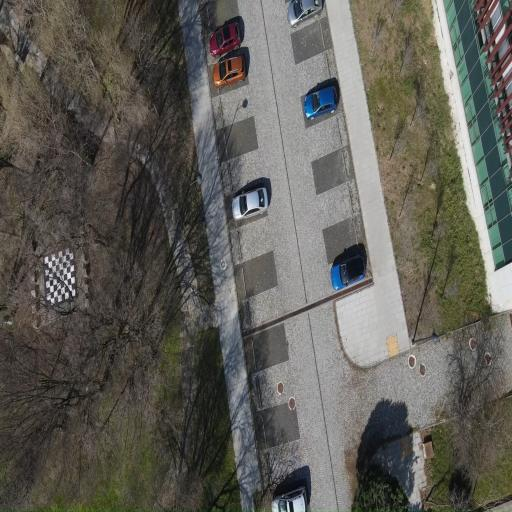person: (331, 254, 365, 290), (232, 187, 268, 220), (304, 86, 338, 119), (213, 55, 246, 88), (210, 22, 241, 57), (288, 0, 323, 27), (272, 487, 307, 511)
